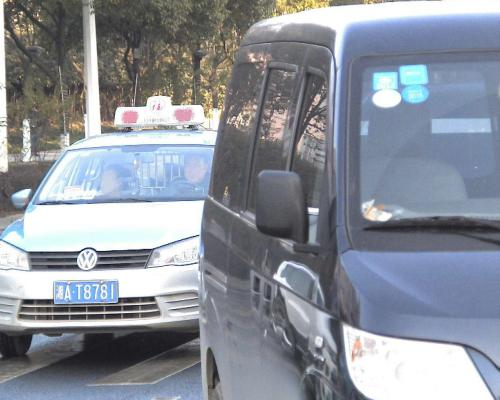Carplate: (49, 278, 122, 310)
